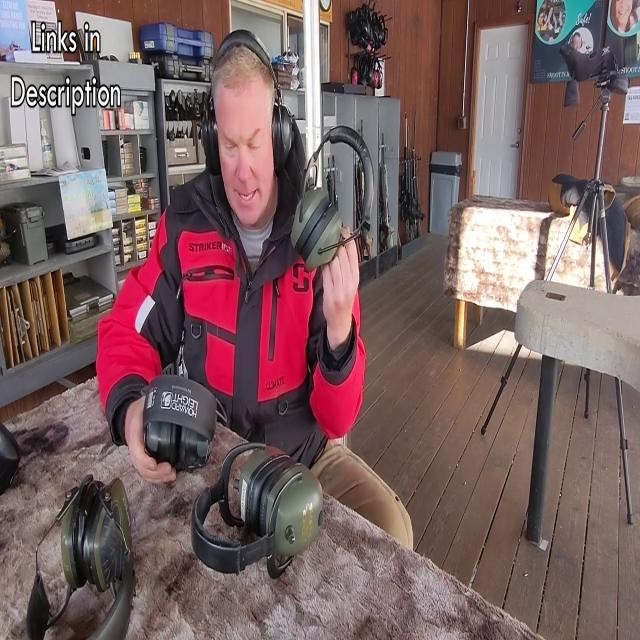earmuff: (216, 122, 272, 160), (271, 99, 297, 177), (194, 104, 222, 174)
